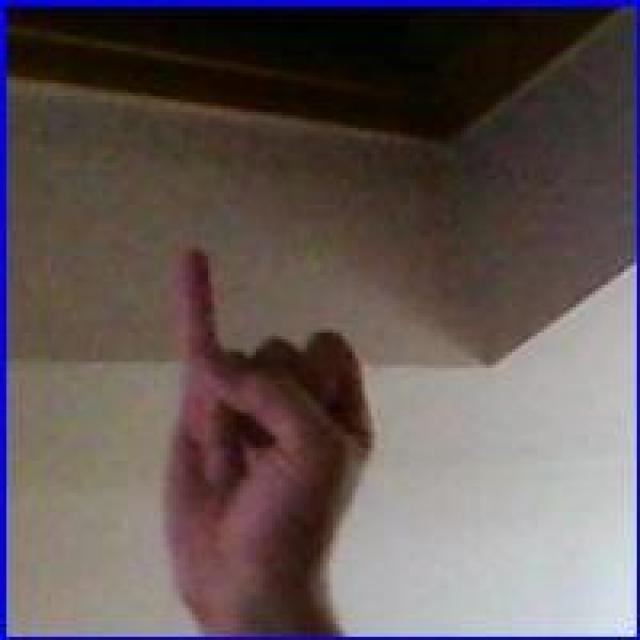I: (165, 243, 376, 621)
